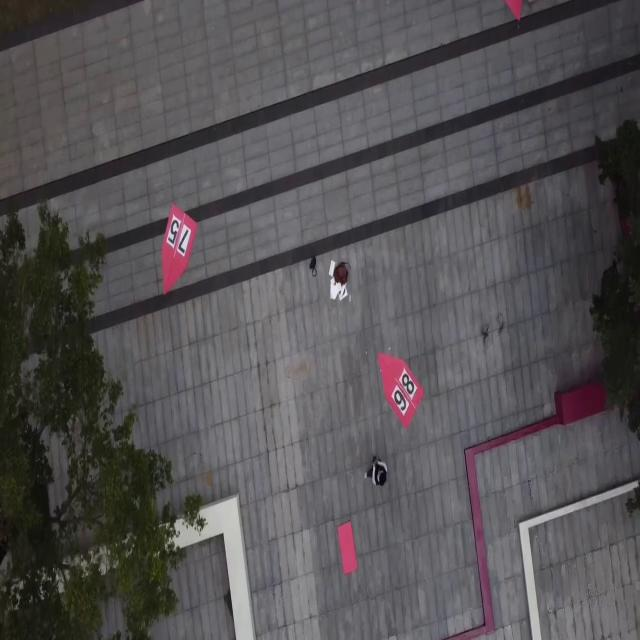-sign-: (376, 350, 424, 430), (160, 203, 198, 296)
